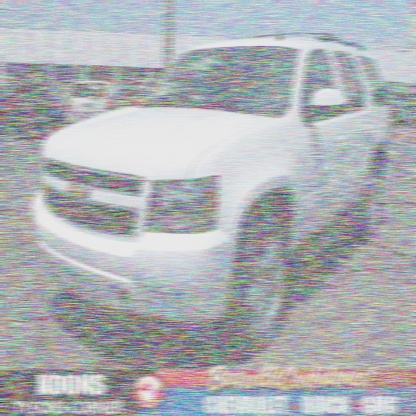Vehicle: (32, 31, 392, 348)
